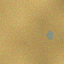person: (46, 30, 53, 39)
